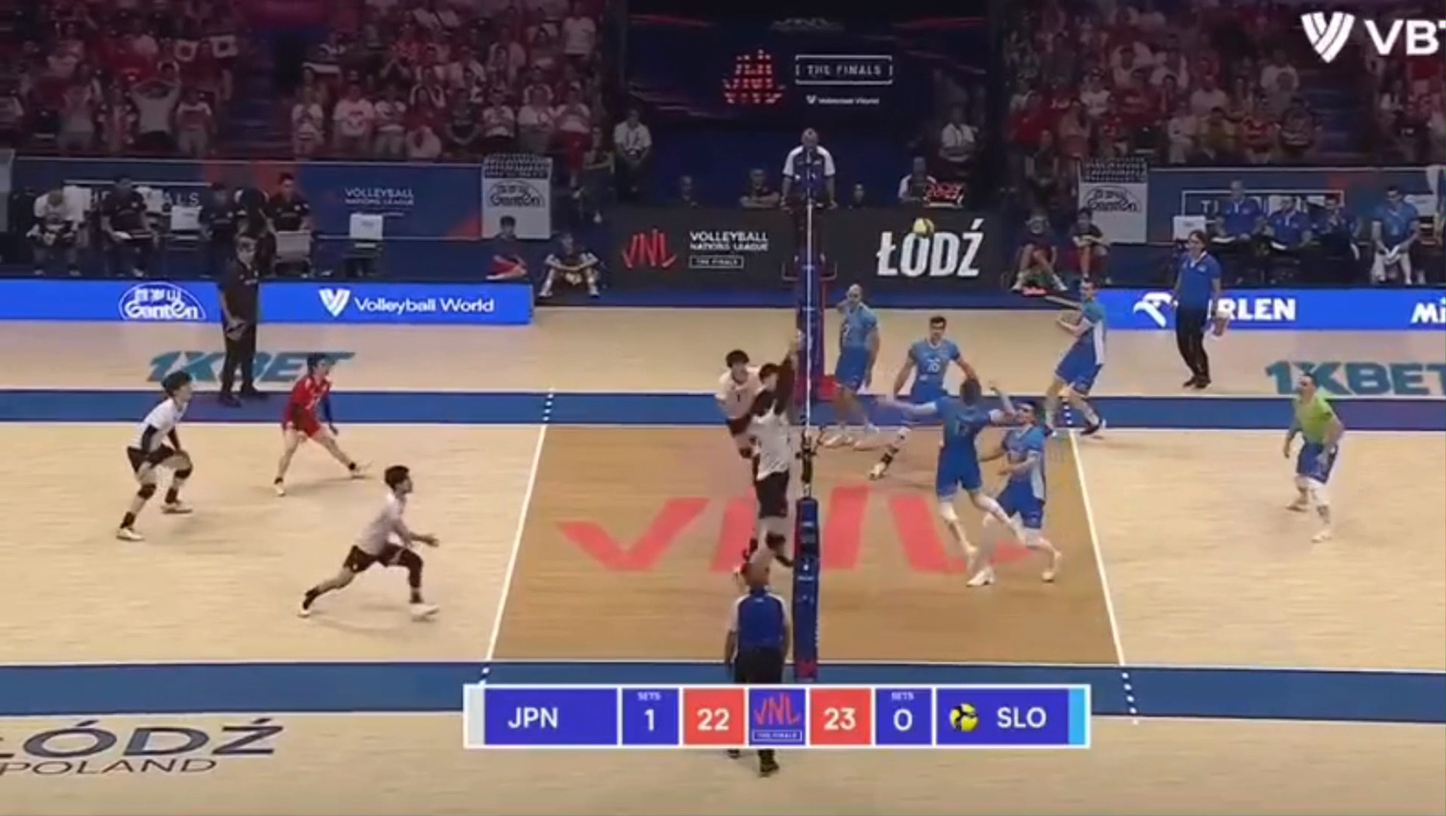ball: (911, 217, 935, 236)
player: (885, 375, 1015, 570), (981, 401, 1061, 582), (1283, 375, 1342, 541), (1045, 280, 1107, 435), (822, 285, 877, 447), (894, 315, 973, 402), (868, 418, 917, 478), (968, 544, 993, 586)
player 1: (299, 465, 437, 617), (116, 372, 193, 540), (273, 354, 360, 495), (748, 342, 796, 567), (715, 349, 762, 465)
referee: (780, 128, 836, 283), (725, 556, 792, 685), (1173, 230, 1222, 390), (218, 236, 264, 405), (759, 749, 777, 775)
